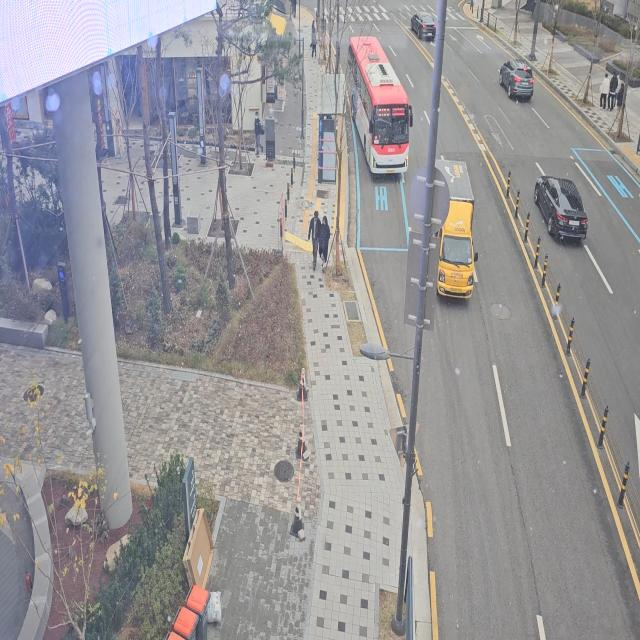Bus: (340, 32, 415, 183)
Car: (533, 163, 595, 246), (495, 46, 537, 108), (407, 7, 448, 42)
Truck: (419, 136, 484, 304)
